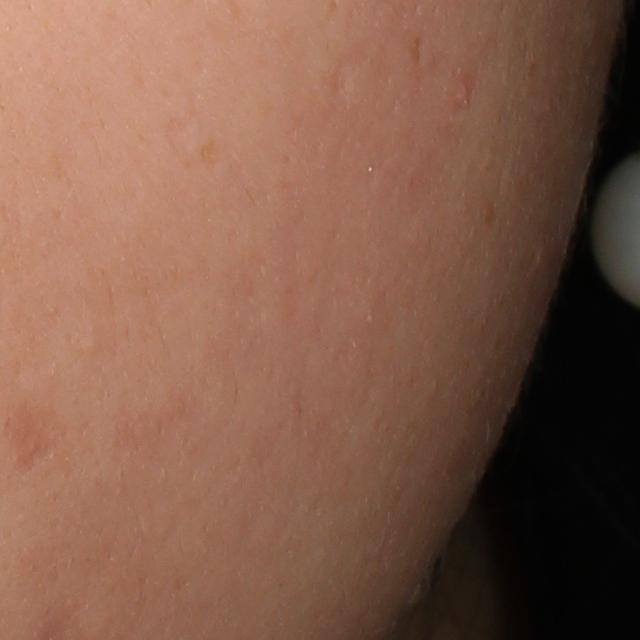atrophic_scar: (8, 404, 61, 477)
papule: (450, 76, 473, 109)
